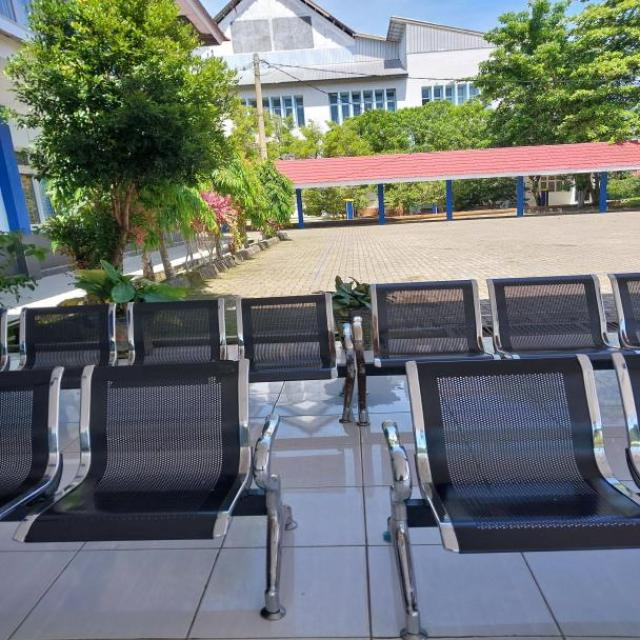chair ahead at: (400, 349, 640, 551), (45, 357, 251, 546)
